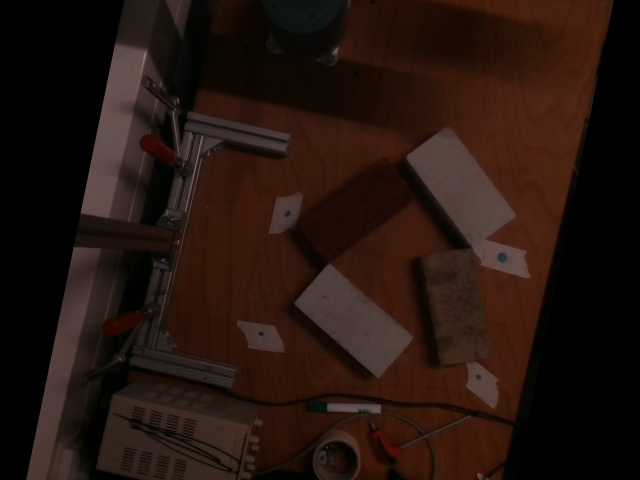brick: (297, 266, 412, 376), (296, 157, 413, 263), (409, 128, 514, 246), (422, 247, 487, 365)
